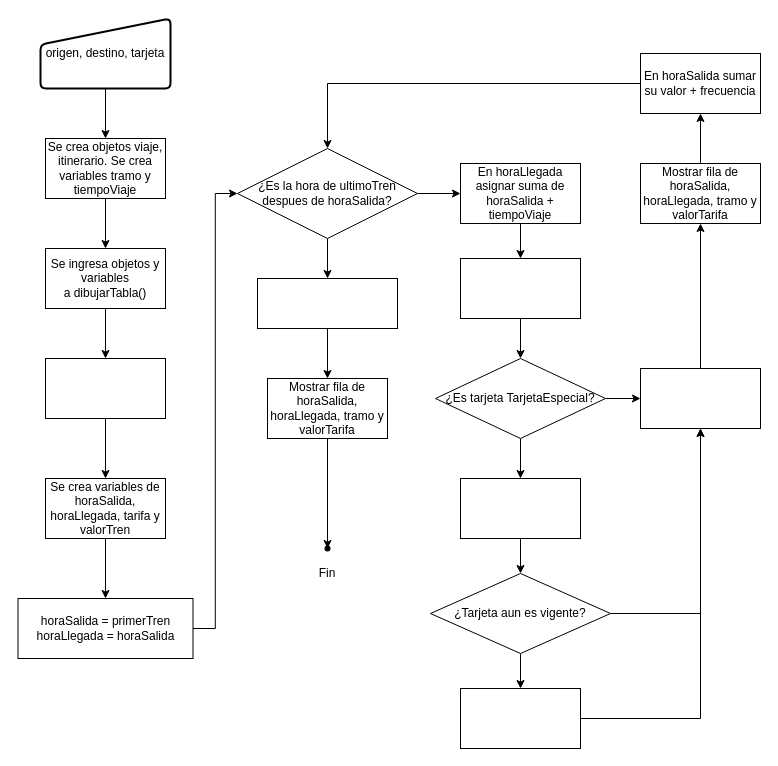
This 778x766 diagram has some shape labels left out. Here are the shapes that lost their labels. From the top down, the box of each, then its label:
(256, 278, 398, 328): Setear horaSalida = ultimoTren
(460, 258, 580, 318): Obtener tarifa segun tramo, hora y tarjeta
(44, 358, 166, 418): Se setea primer y ultimo tren de servicio segun itinerario
(640, 368, 760, 428): Asignar tarifa a valorTarifa
(460, 478, 580, 538): Revisar vigencia
(460, 688, 580, 748): Calcular tarifa en base a tarifa * descuento / 100
